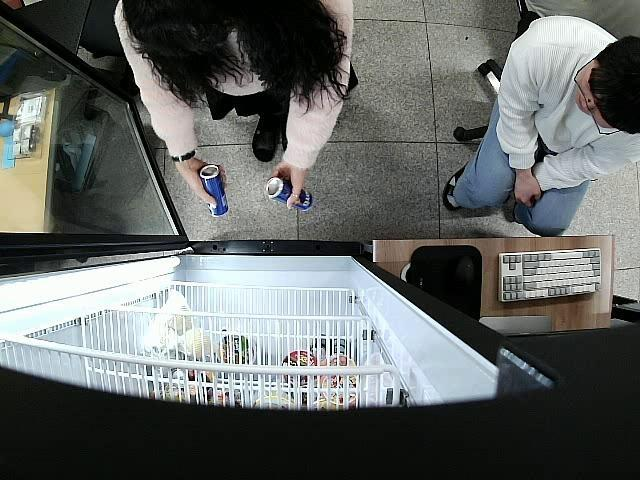16_hot6: (265, 178, 314, 210), (198, 166, 228, 215)
